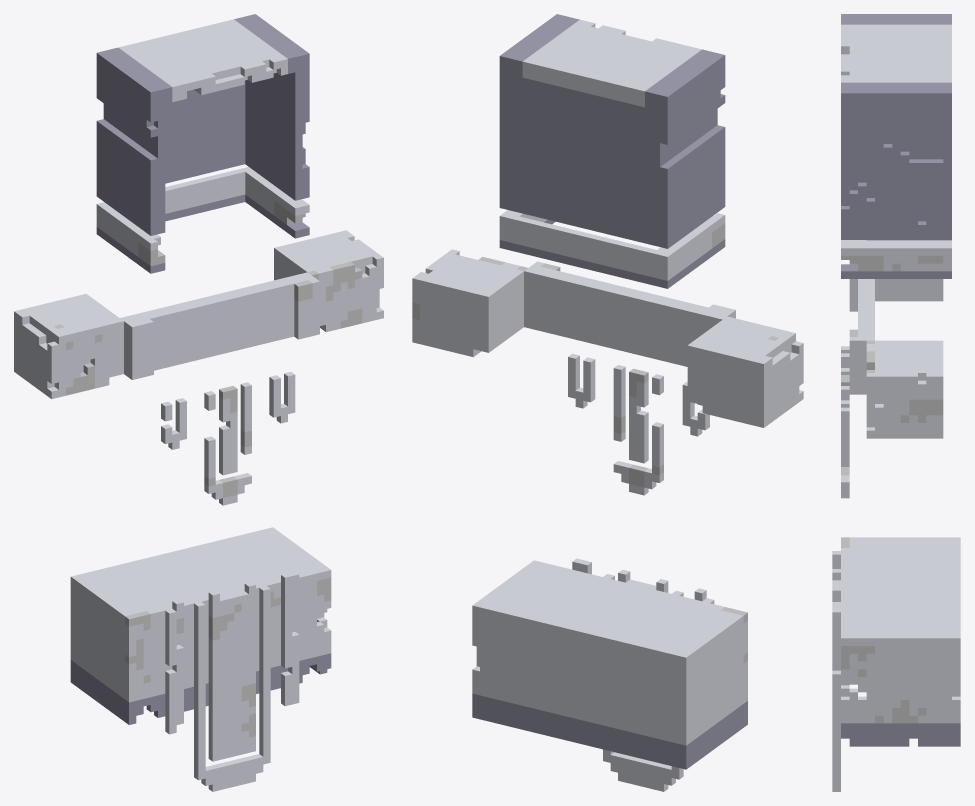
Rendered from Anubis_75-5.obj.
3 renders of one model, left to right at view 1: azimuth 30°, elevation 25°; view 2: azimuth 150°, elevation 25°; view 3: azimuth 270°, elevation 25°, orthographic. The views are drawn at different scales.
Bounding box in the file's own units: 4.6 × 9.4 × 1.5.
Materials: 1 (1 with a texture image).
